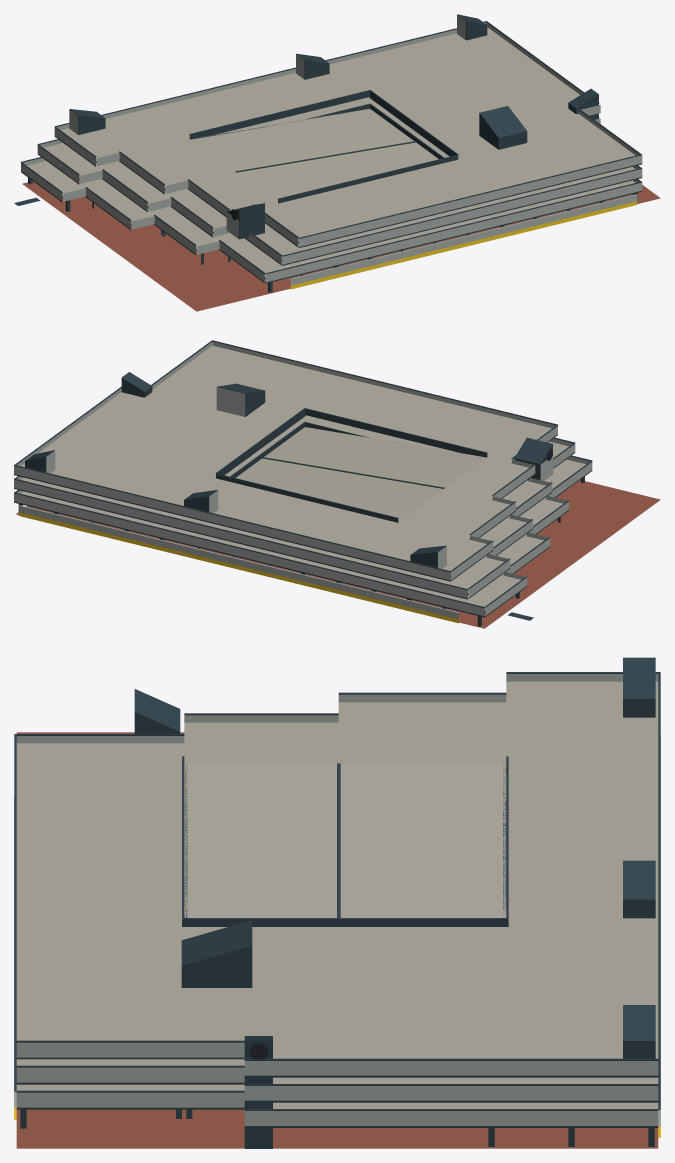
File: cyxd_garage22_lod1.gltf
The picture shows the model from 3 angles, top to bottom: view 1: azimuth 30°, elevation 25°; view 2: azimuth 150°, elevation 25°; view 3: azimuth 270°, elevation 25°; orthographic projection. The views are drawn at different scales.
Visible parts, largest first — view 1: cyxd_garage22; view 2: cyxd_garage22; view 3: cyxd_garage22.
Part boxes in pixels (<box>): cyxd_garage22: <box>14,14,660,311</box>; cyxd_garage22: <box>14,340,660,628</box>; cyxd_garage22: <box>14,657,660,1148</box>.
Size of the model in its own units: 121 by 15.8 by 74.9.
